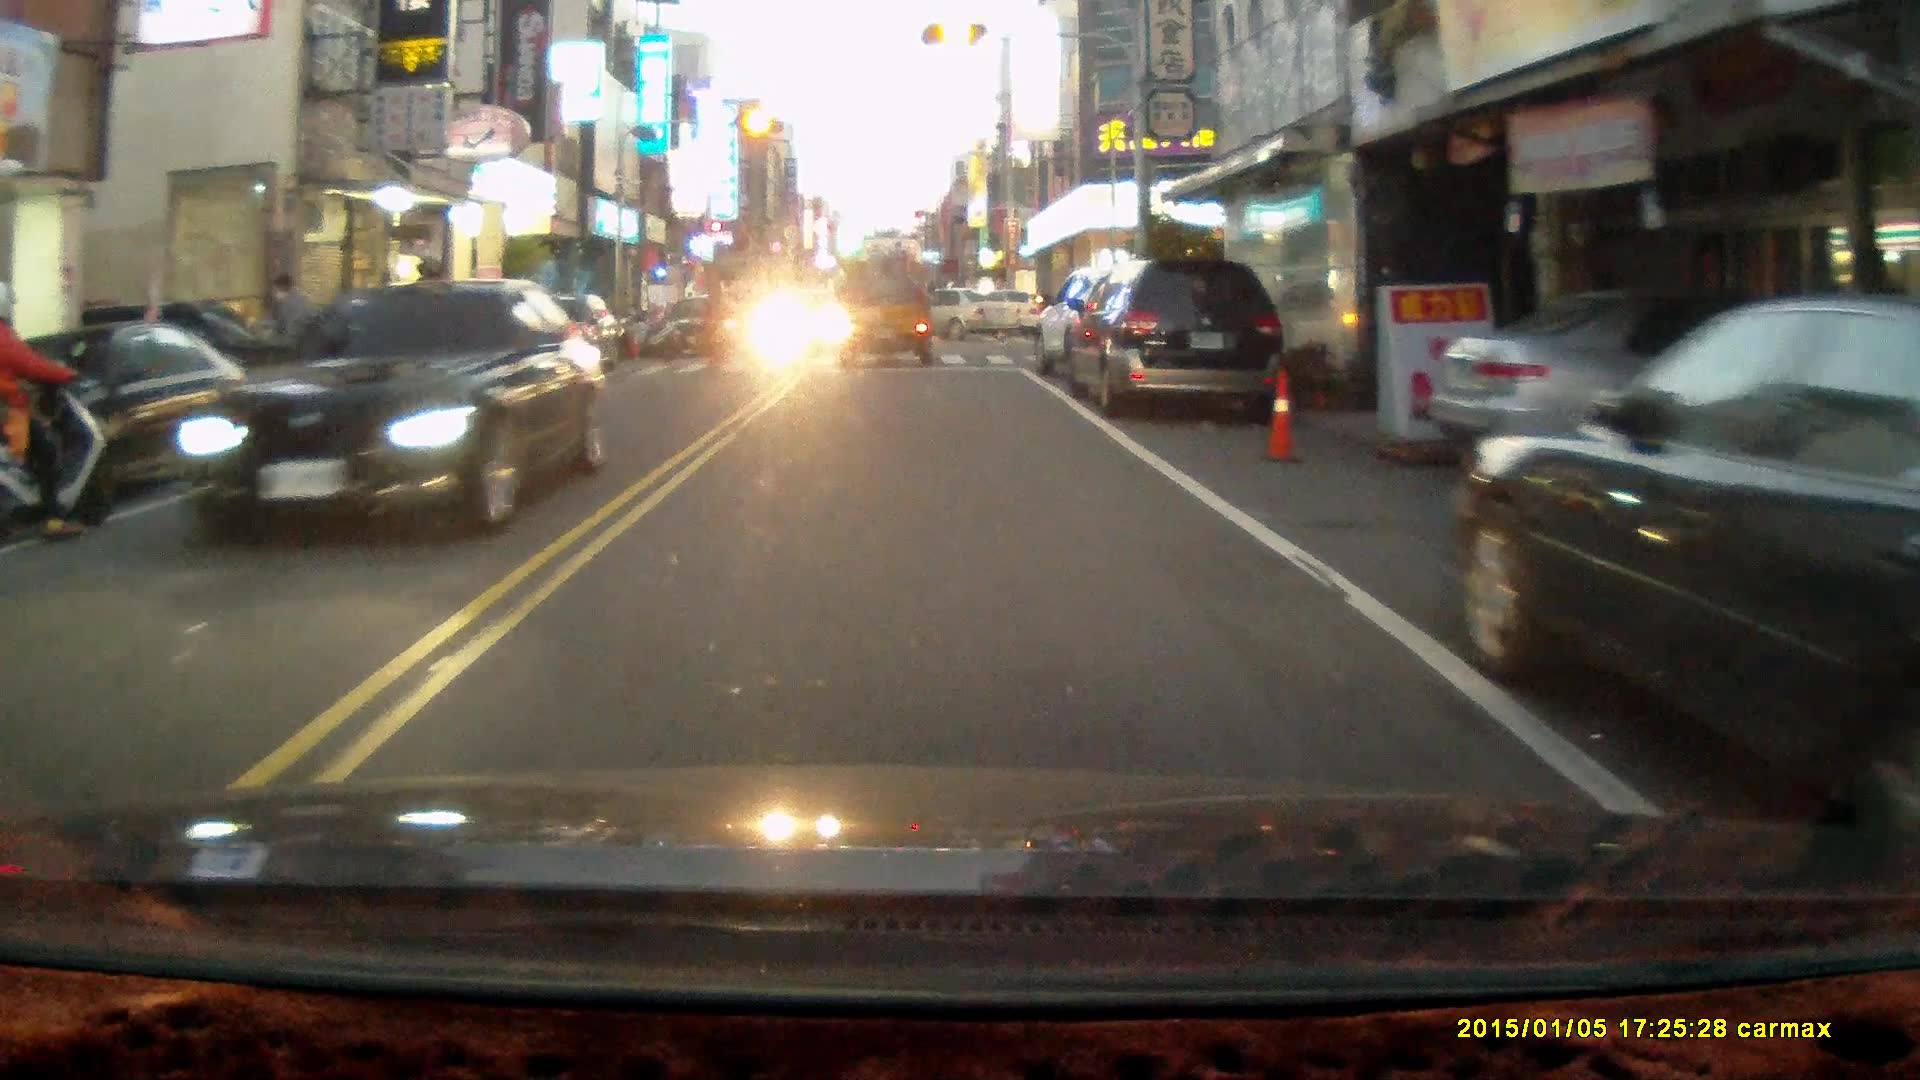rider: (0, 272, 119, 546)
vehicle: (1457, 299, 1920, 819), (163, 277, 601, 552), (1425, 290, 1889, 499), (1062, 253, 1290, 421), (1033, 260, 1207, 396), (838, 257, 937, 367), (873, 285, 1017, 343), (660, 299, 747, 360)
